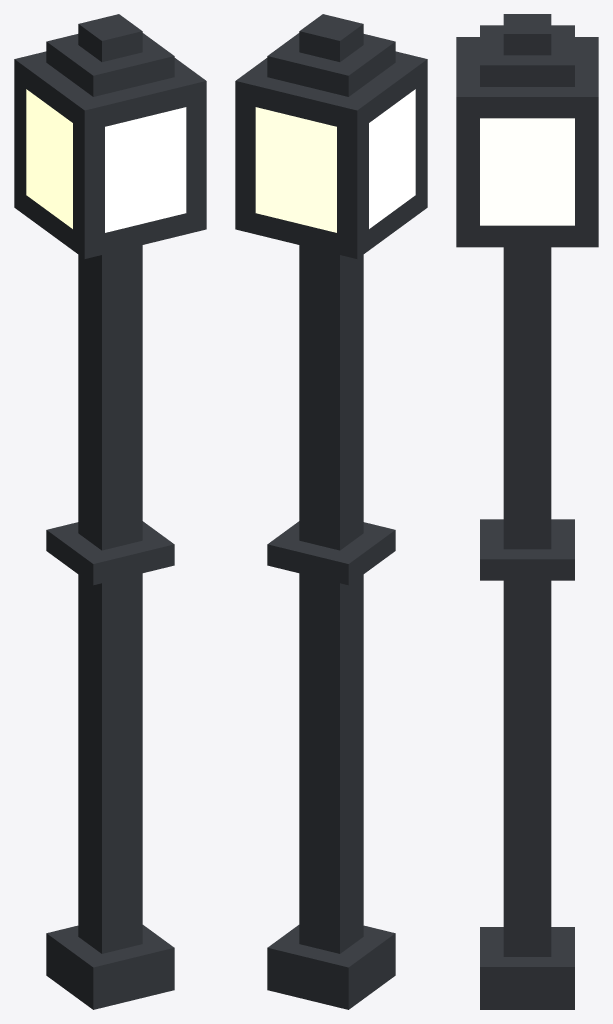
The model's file is lamp.glb.
3 renders of one model, left to right at view 1: azimuth 30°, elevation 25°; view 2: azimuth 150°, elevation 25°; view 3: azimuth 270°, elevation 25°, orthographic.
Visible parts, largest first — view 1: post, light; view 2: post, light; view 3: post, light.
Boxes of the visible parts, x1,y1,x2,y2 form: post: [14, 14, 206, 1009]; light: [26, 89, 186, 232]; post: [235, 14, 427, 1009]; light: [255, 89, 415, 232]; post: [456, 14, 598, 1009]; light: [480, 118, 574, 225].
Size of the model in its own units: 0.6 by 4.5 by 0.6.
